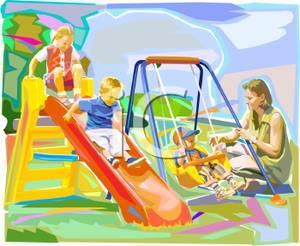person: (207, 78, 294, 193), (65, 75, 141, 165), (170, 124, 247, 200), (25, 23, 82, 99)
